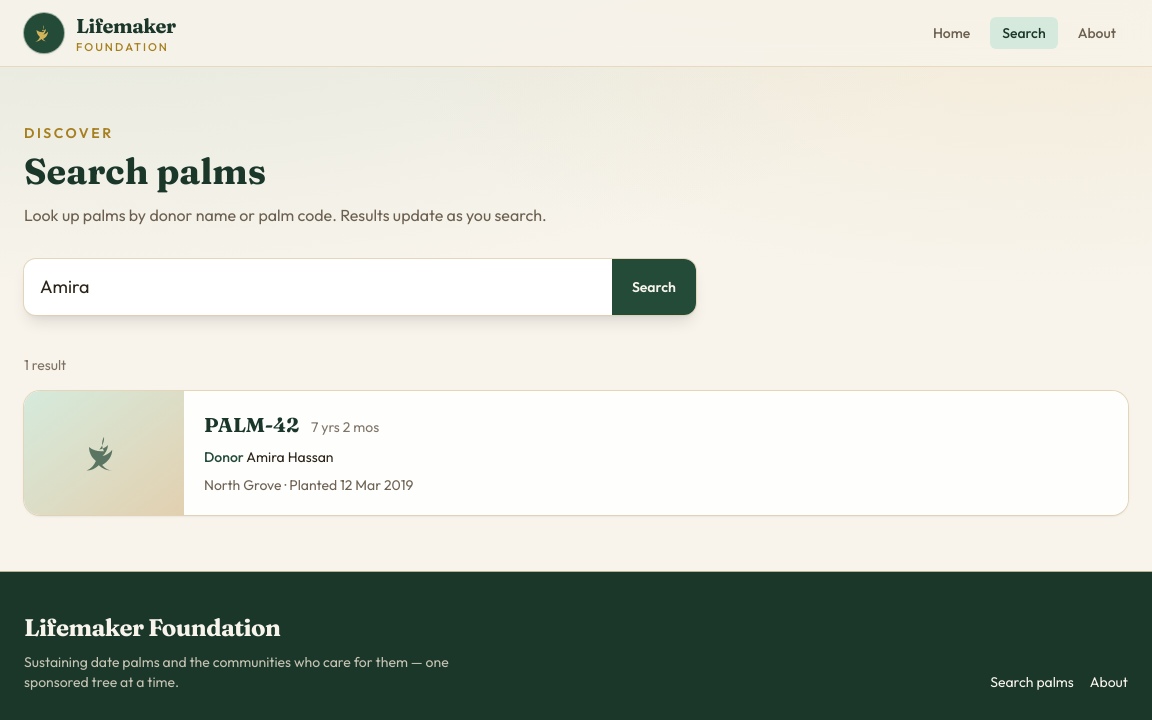
Test: SearchPage › shows results and navigates to a palm profile from a result card
Expected: the heading "Search palms" is shown, [24,149,266,193]
Expected: the heading "PALM-42" is shown, [204,411,299,439]
Click the link with aria-label "view palm palm-42 sponsored by amira hassan" at (219, 453), box [24,391,414,515]
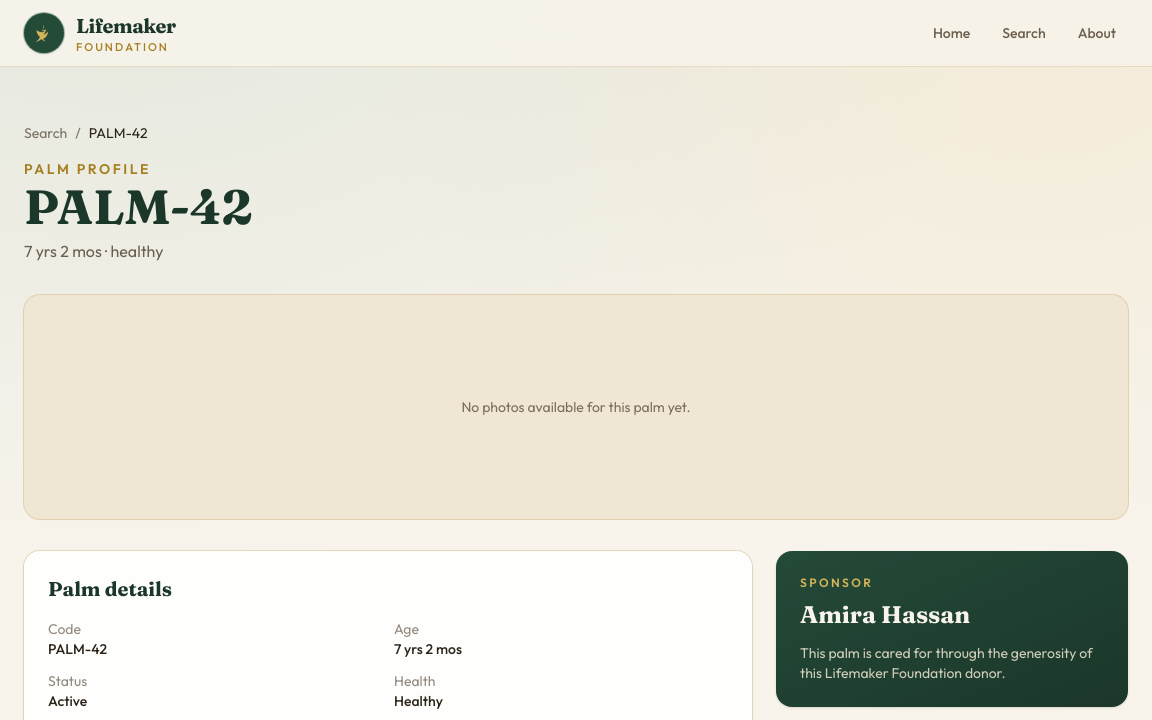
Result: the heading "PALM-42" is shown at [24,183,252,231]
Result: the heading "Palm details" is shown at [48,576,172,601]
